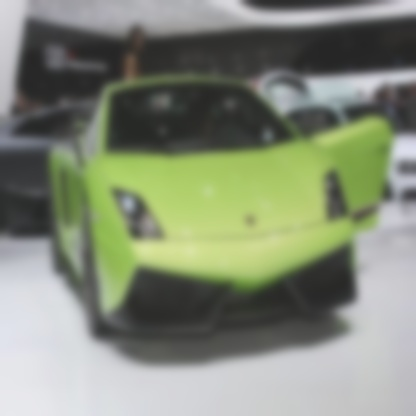Vehicle: (49, 77, 394, 337)
